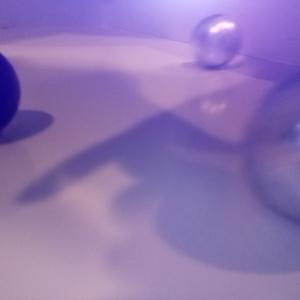alive_ball: (191, 14, 245, 67)
dead_ball: (1, 52, 21, 130)
